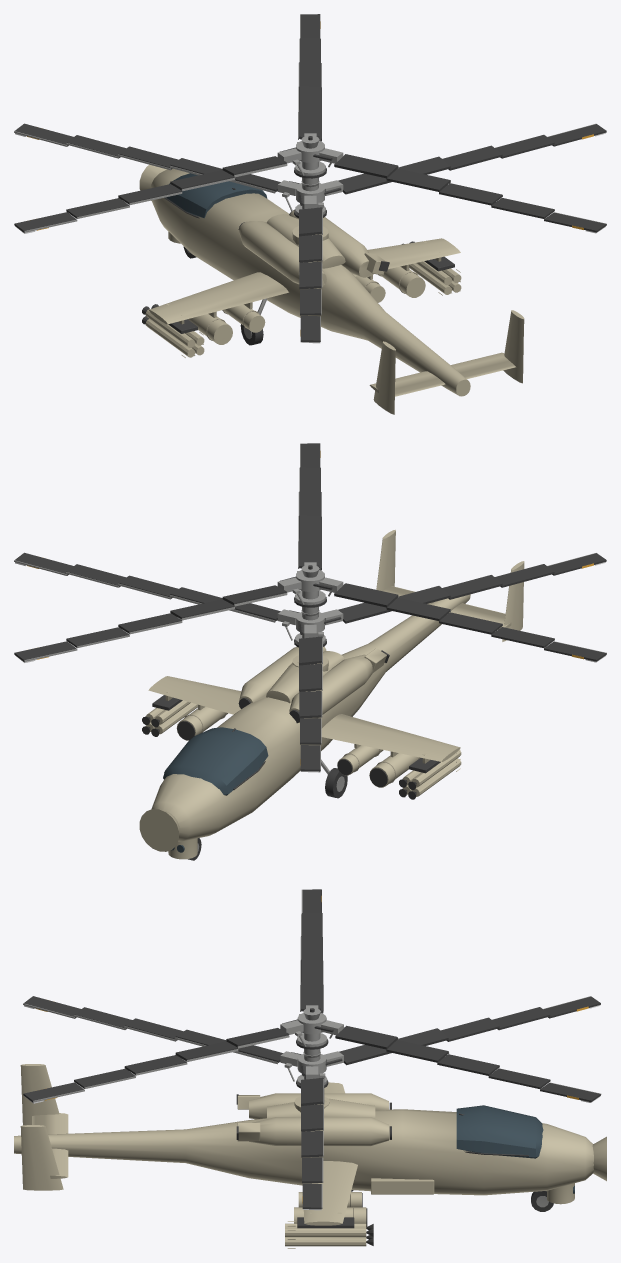
Rendered from rus_heli_ka52m.glb.
3 renders of one model, top to bottom at view 1: azimuth 30°, elevation 25°; view 2: azimuth 150°, elevation 25°; view 3: azimuth 270°, elevation 25°, orthographic. The views are drawn at different scales.
Parts seen in each view (by area): view 1: body, trotor, rotor; view 2: body, trotor, rotor; view 3: body, trotor, rotor.
Part boxes in pixels (x1=…): body: x1=139, y1=162, x2=524, y2=414; trotor: x1=14, y1=14, x2=606, y2=233; rotor: x1=14, y1=123, x2=606, y2=343; body: x1=139, y1=529, x2=524, y2=860; trotor: x1=14, y1=443, x2=606, y2=662; rotor: x1=14, y1=552, x2=606, y2=772; body: x1=14, y1=1033, x2=606, y2=1248; trotor: x1=23, y1=889, x2=601, y2=1103; rotor: x1=23, y1=996, x2=600, y2=1210.
Size of the model in its own units: 14.51 by 4.95 by 13.13.
